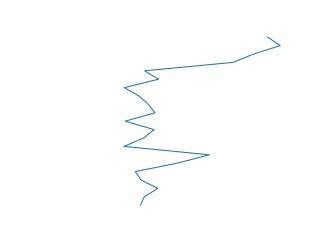crevasseRiverChannelBar: (118, 34, 285, 210)
